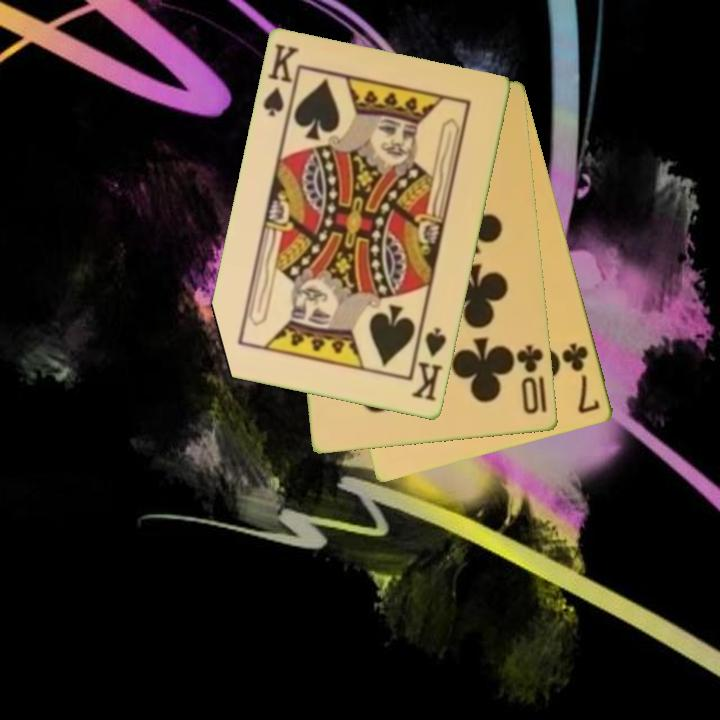10c: (513, 342, 547, 418)
7c: (559, 339, 603, 417)
Ks: (260, 40, 303, 126), (408, 324, 450, 405)
